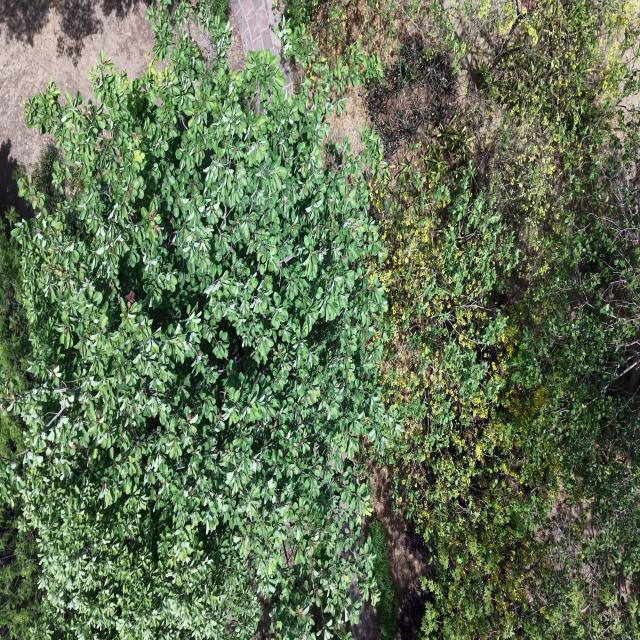DRY_AREA: (0, 0, 154, 214), (0, 0, 154, 212), (0, 0, 154, 165), (0, 0, 153, 165), (368, 462, 432, 639), (0, 0, 150, 62), (369, 463, 429, 600), (369, 466, 423, 602), (369, 466, 420, 588), (230, 0, 291, 90), (328, 86, 371, 155), (230, 0, 282, 54), (0, 139, 26, 216), (227, 7, 246, 73), (227, 9, 246, 72), (350, 601, 381, 639), (624, 43, 639, 72)
VEGETATION_TREE: (0, 0, 639, 639), (3, 0, 385, 638), (308, 2, 639, 637), (367, 0, 639, 638), (0, 208, 30, 393), (0, 209, 28, 391), (369, 518, 396, 639)
